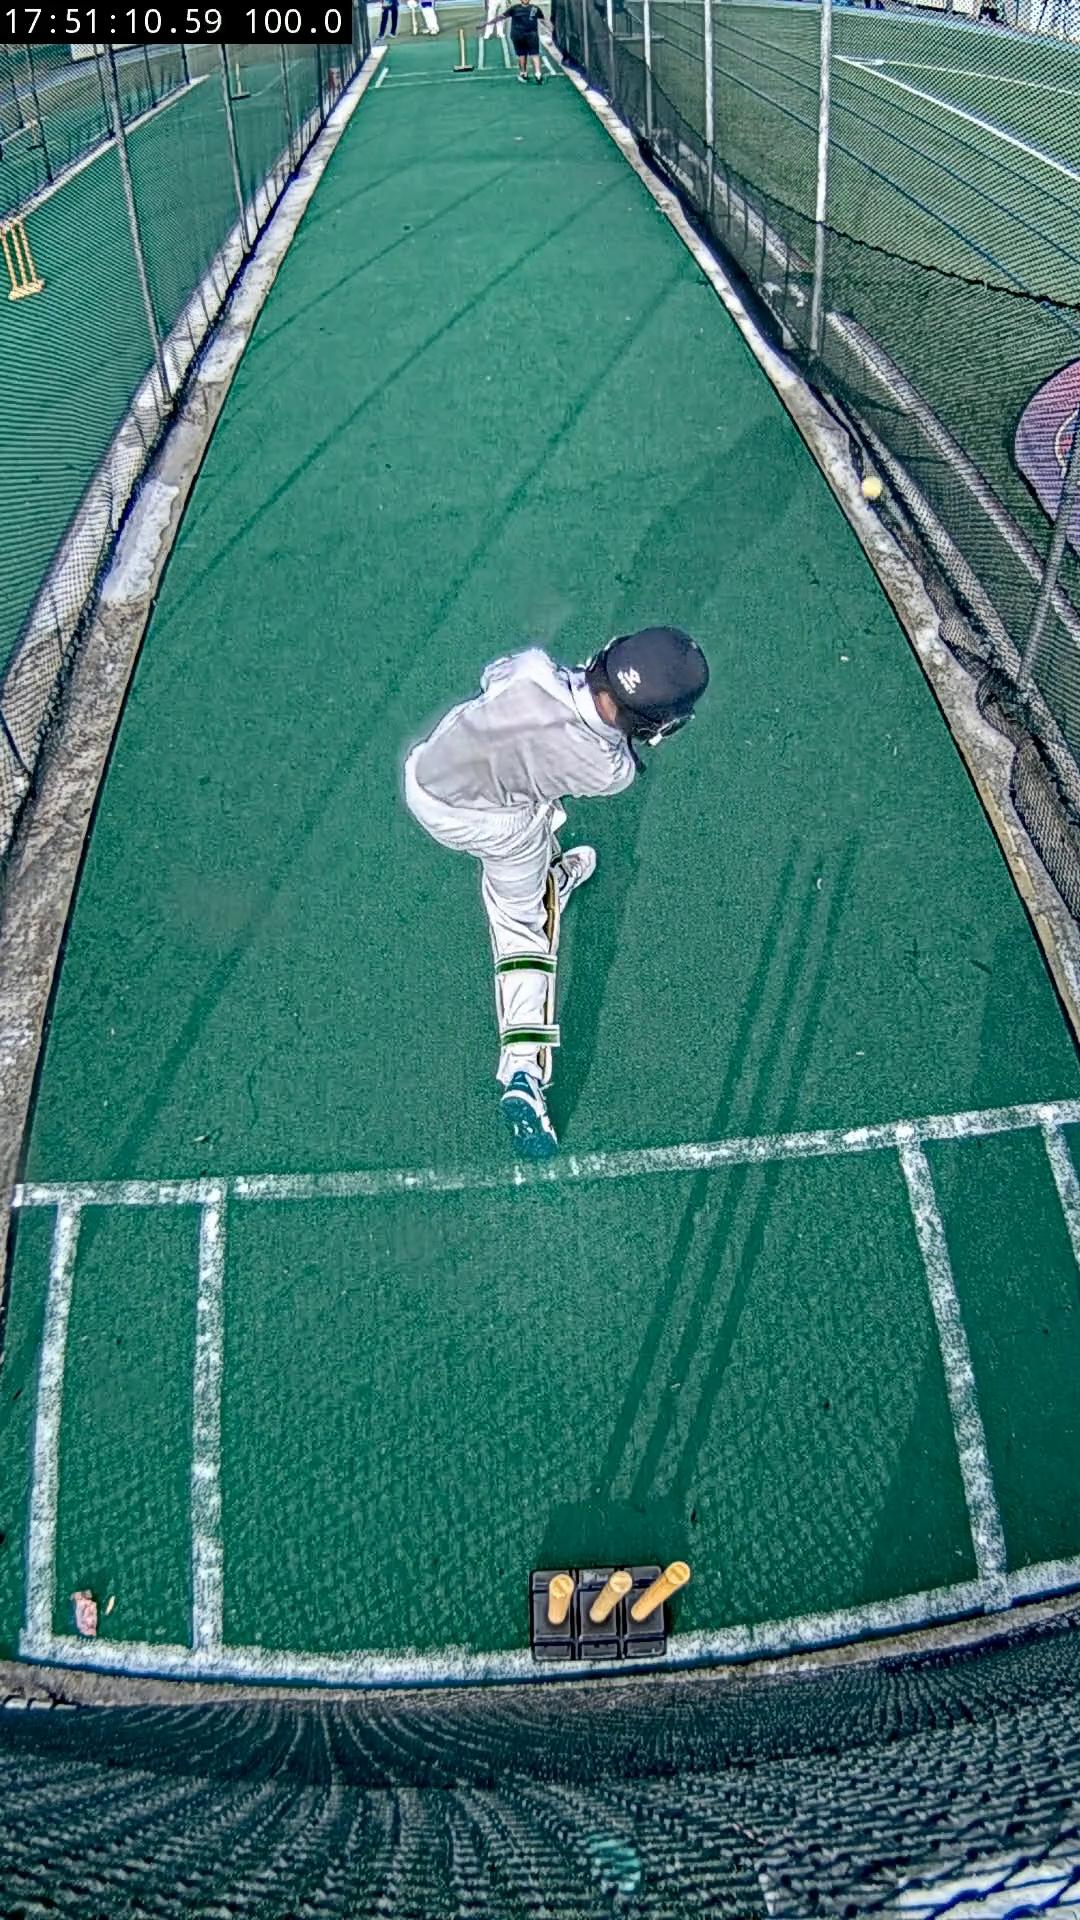ball: (858, 476, 885, 502)
helmet: (588, 626, 708, 744)
stumps: (529, 1560, 690, 1665)
